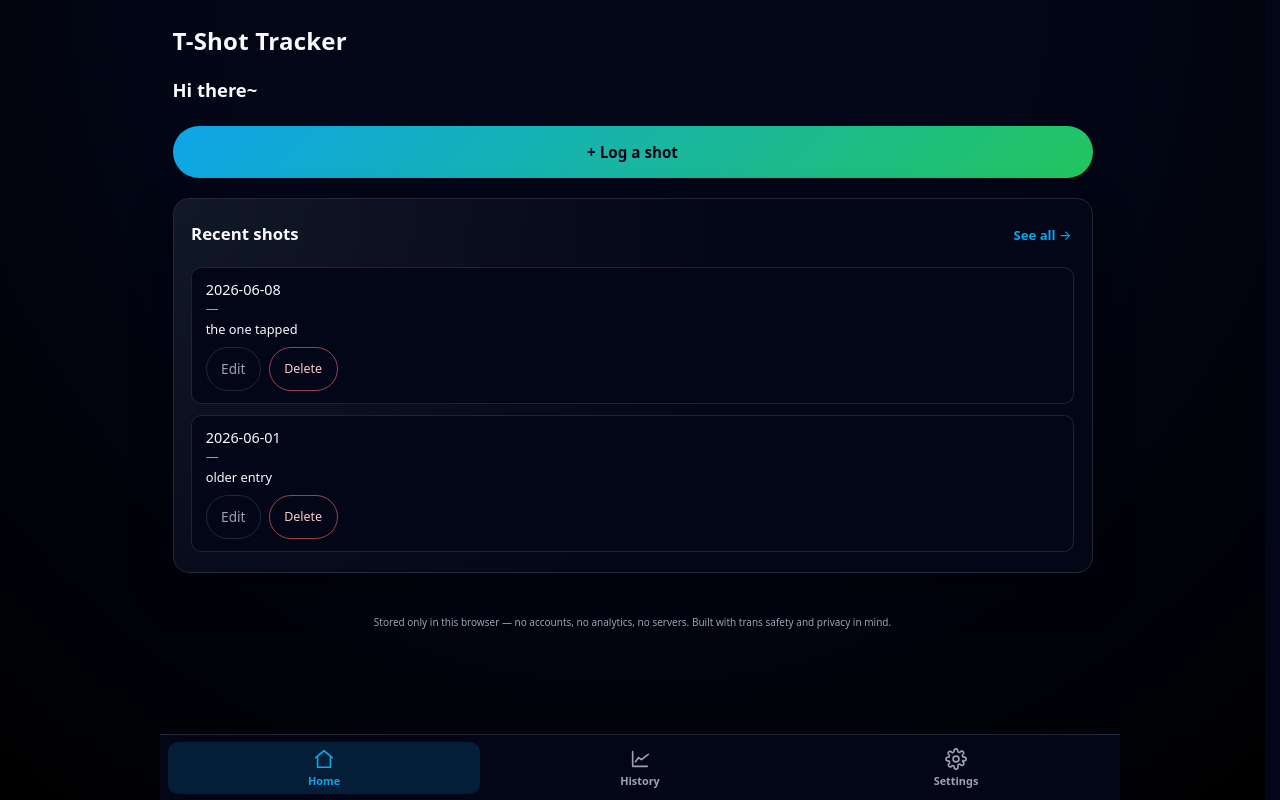
Test: App — editing from History › opens a teaser shot in History, with the editor already up
Click the button "Edit" below "2026-06-08". click: [233, 369]
box: [206,347,261,391]
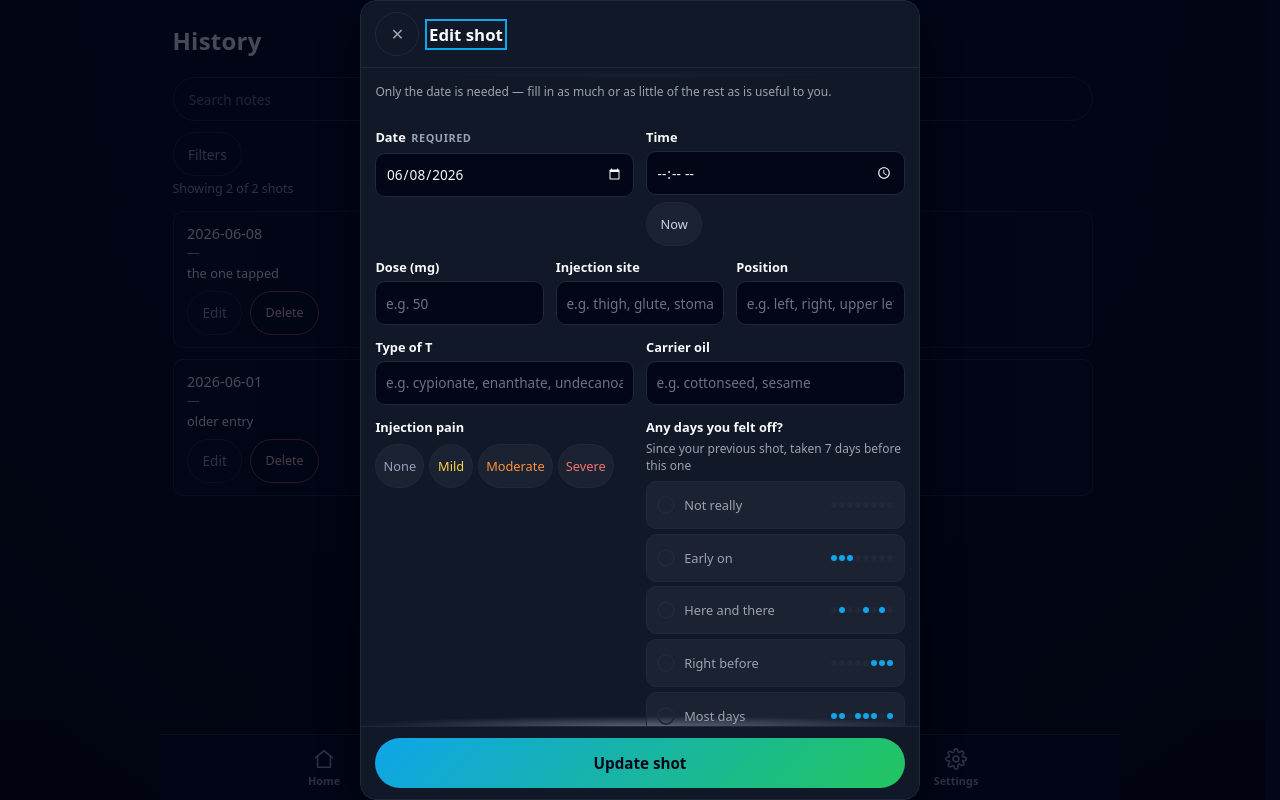
Check: the heading "Edit shot" is shown, box [429,23,503,46]
